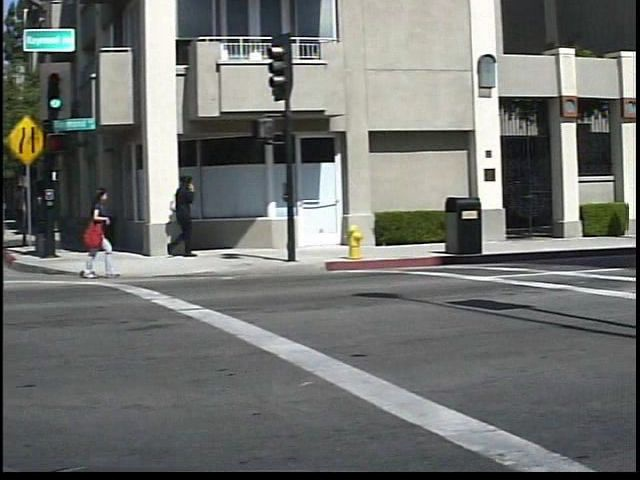person: (77, 182, 127, 282), (165, 170, 212, 260)
